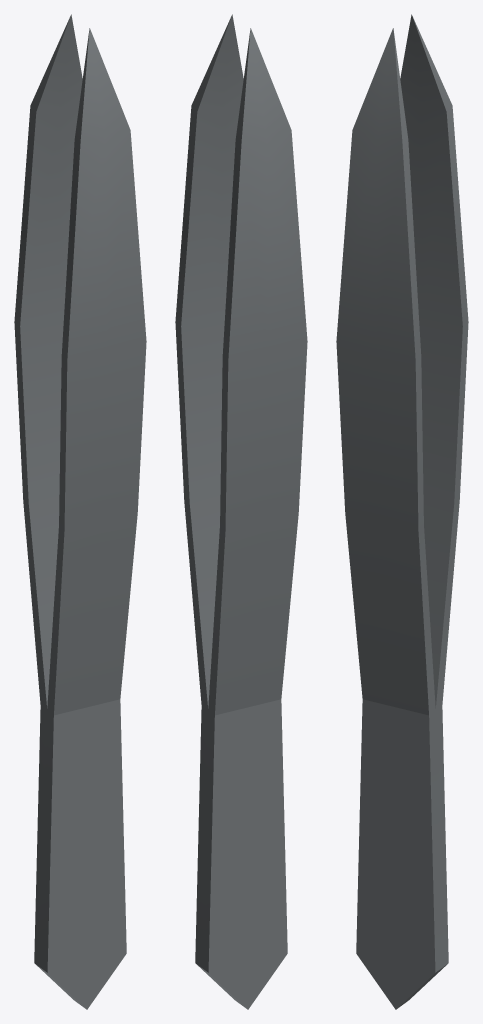
File: PRP_NURSE_TOOL_02.FBX
The picture shows the model from 3 angles, left to right: view 1: azimuth 30°, elevation 25°; view 2: azimuth 210°, elevation 25°; view 3: azimuth 330°, elevation 25°; orthographic projection.
Visible parts, largest first — view 1: PRP_NURSE_TOOL_02; view 2: PRP_NURSE_TOOL_02; view 3: PRP_NURSE_TOOL_02.
Boxes of the visible parts, x1=… form: PRP_NURSE_TOOL_02: x1=14, y1=14, x2=146, y2=1009; PRP_NURSE_TOOL_02: x1=175, y1=14, x2=307, y2=1009; PRP_NURSE_TOOL_02: x1=336, y1=14, x2=468, y2=1009.
Size of the model in its own units: 1.37 by 16.29 by 1.59.
